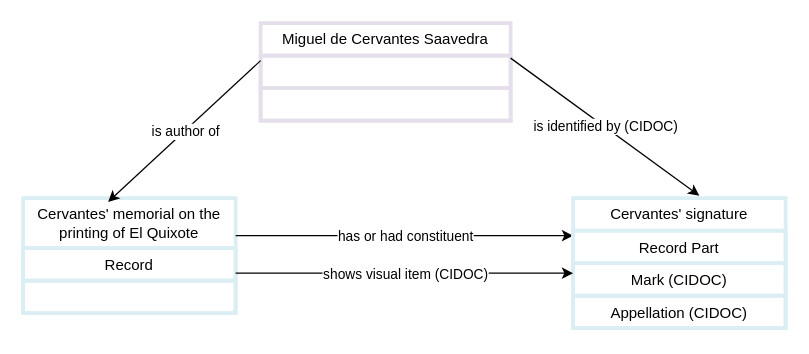
The diagram is 809 pixels wide and 354 high, and some of its shapes have lost their labels. Each missing label, with the box of its shape:
Actor (CIDOC): (258, 86, 512, 122)
Document (CIDOC): (21, 278, 237, 314)
Person: (258, 53, 512, 89)
